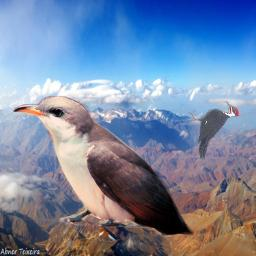Cuckoo: (13, 96, 194, 237)
Woodpecker: (189, 101, 240, 160)
